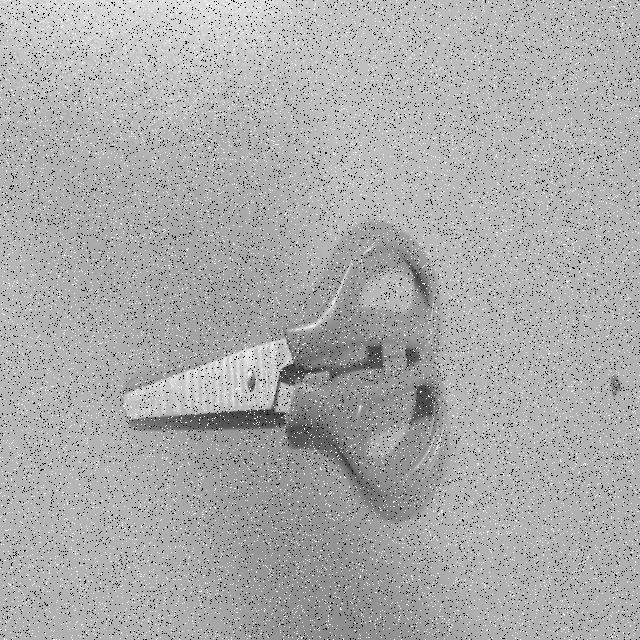scissors: (118, 208, 461, 510)
